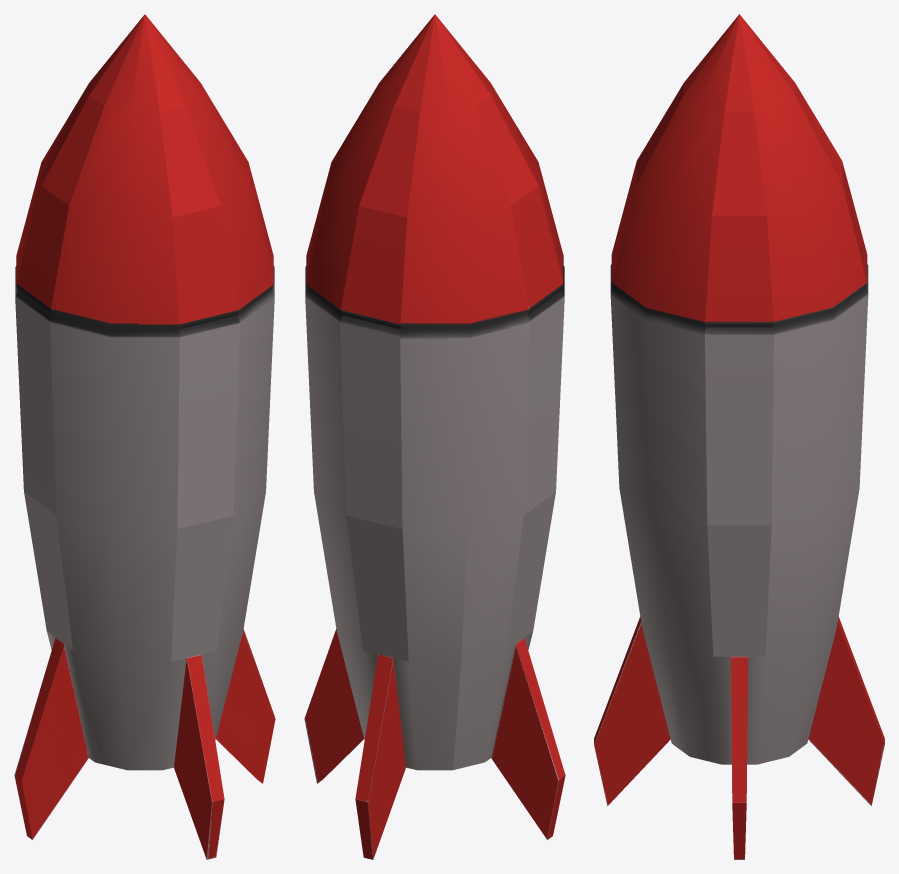
File: Missil1.fbx
3 renders of one model, left to right at view 1: azimuth 30°, elevation 25°; view 2: azimuth 150°, elevation 25°; view 3: azimuth 270°, elevation 25°, orthographic.
Parts seen in each view (by area): view 1: pCone1; view 2: pCone1; view 3: pCone1.
Part boxes in pixels (x1=…): pCone1: x1=14, y1=14, x2=275, y2=859; pCone1: x1=304, y1=14, x2=565, y2=859; pCone1: x1=594, y1=14, x2=884, y2=859.
Size of the model in its own units: 0.7306 by 2.19 by 0.7306.
